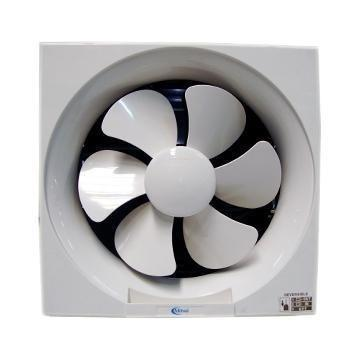fan: (39, 39, 318, 322)
